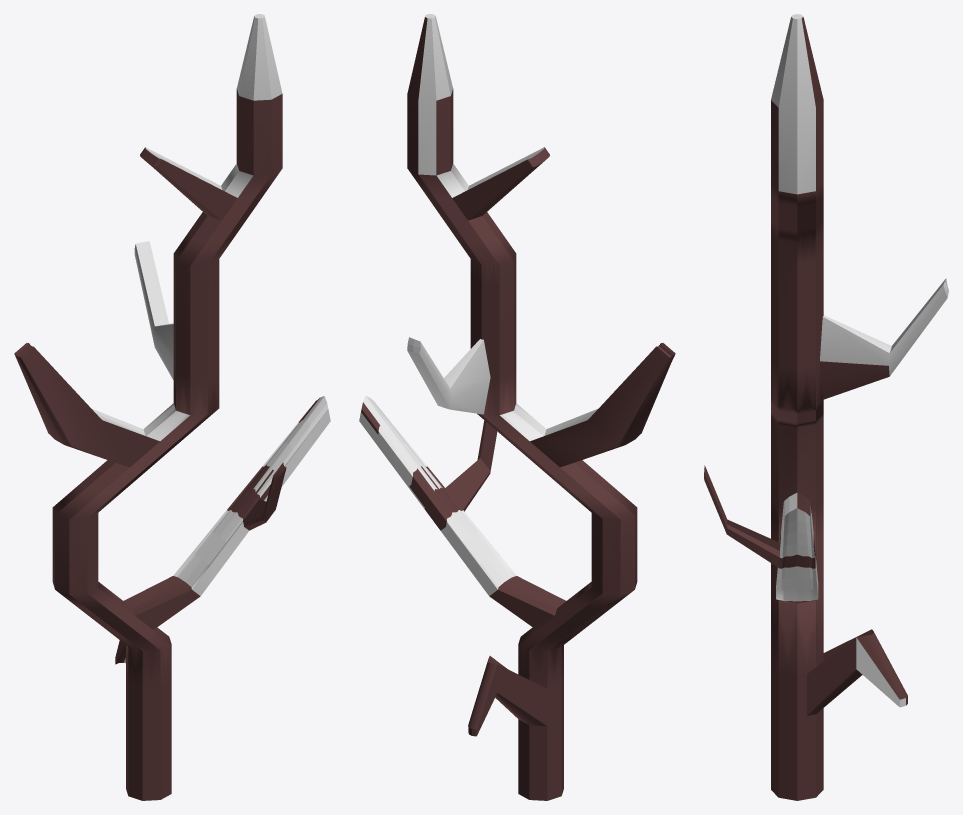
Rendered from snow_stick.fbx.
3 views of the same model, side by side, from view 1: azimuth 30°, elevation 25°; view 2: azimuth 150°, elevation 25°; view 3: azimuth 270°, elevation 25° (orthographic). The views are drawn at different scales.
Visible parts, largest first — view 1: pCylinder1; view 2: pCylinder1; view 3: pCylinder1.
Part boxes in pixels (x1=…): pCylinder1: x1=14, y1=14, x2=330, y2=800; pCylinder1: x1=359, y1=14, x2=675, y2=800; pCylinder1: x1=704, y1=14, x2=948, y2=800.
Bounding box in the file's own units: 1.24 × 2.82 × 0.7515.
